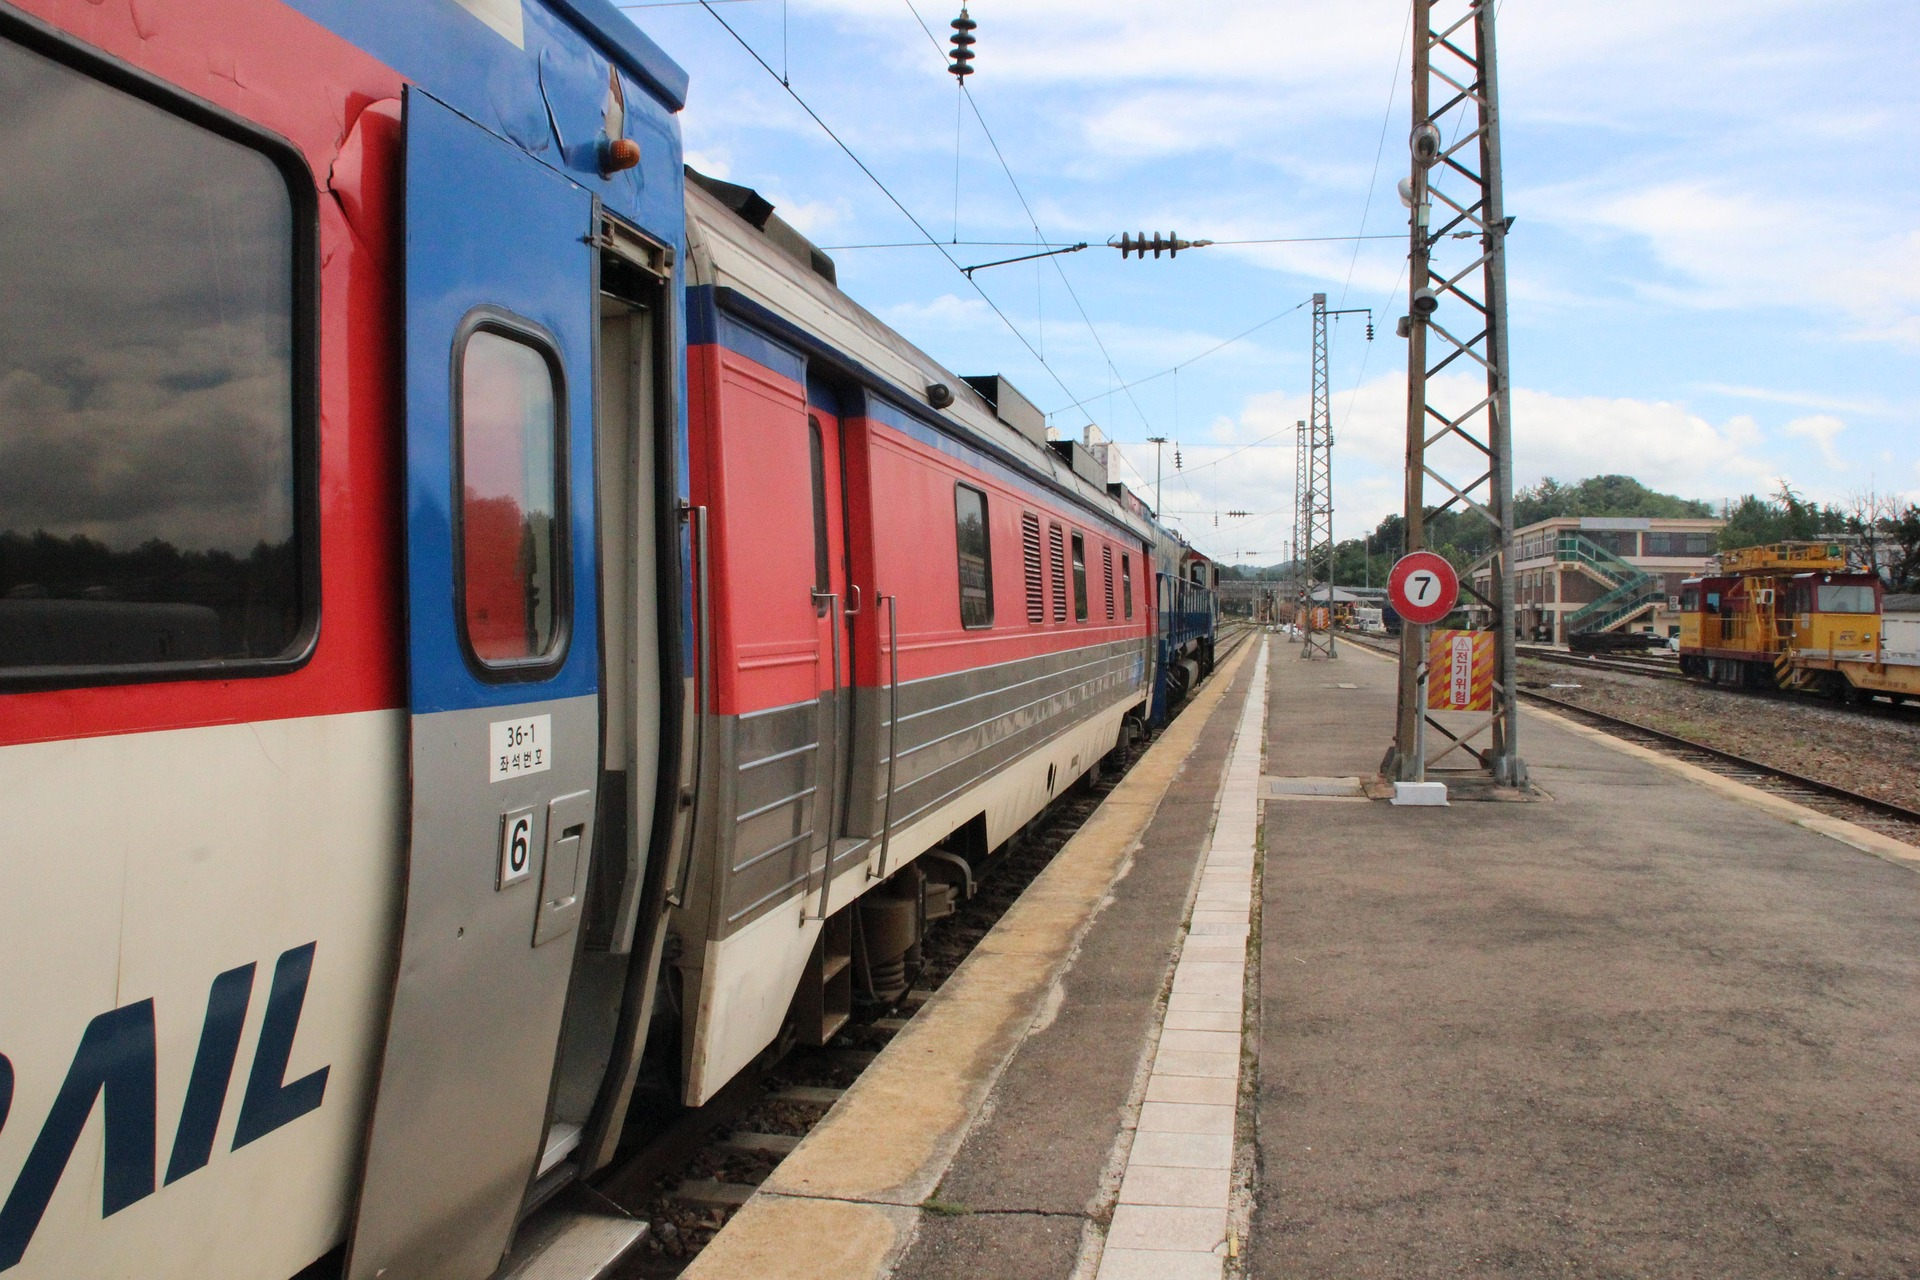train1: (10, 0, 1256, 1270)
